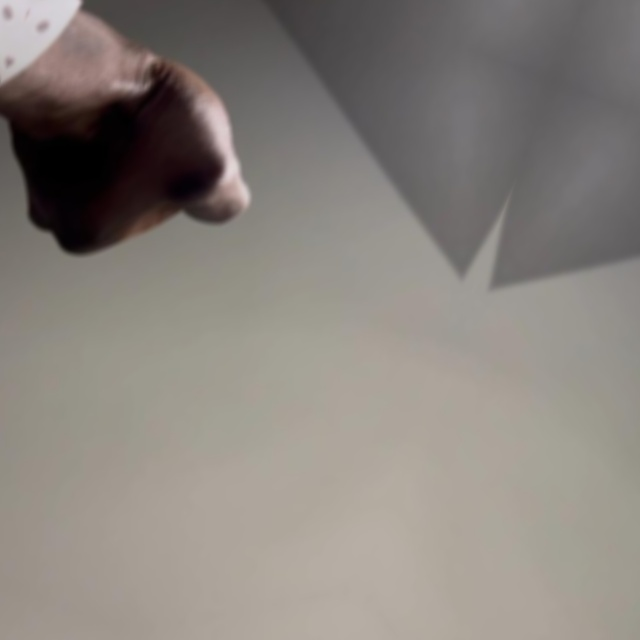Rock: (0, 0, 40, 243)
